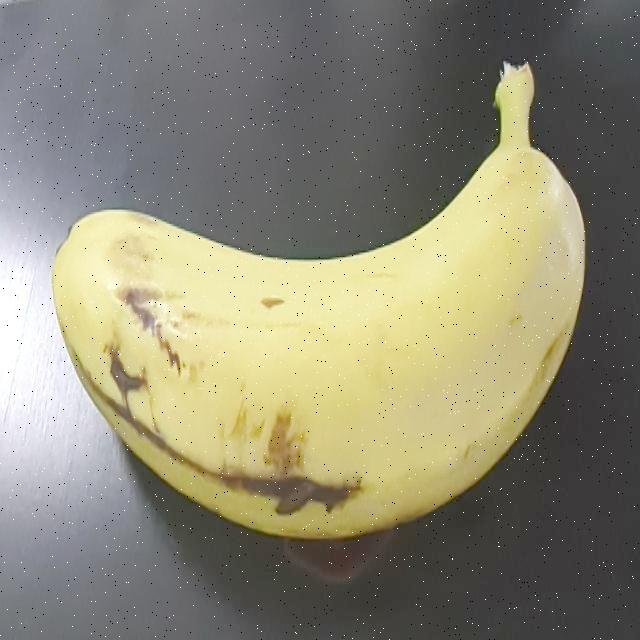Pisang: (48, 14, 597, 588)
